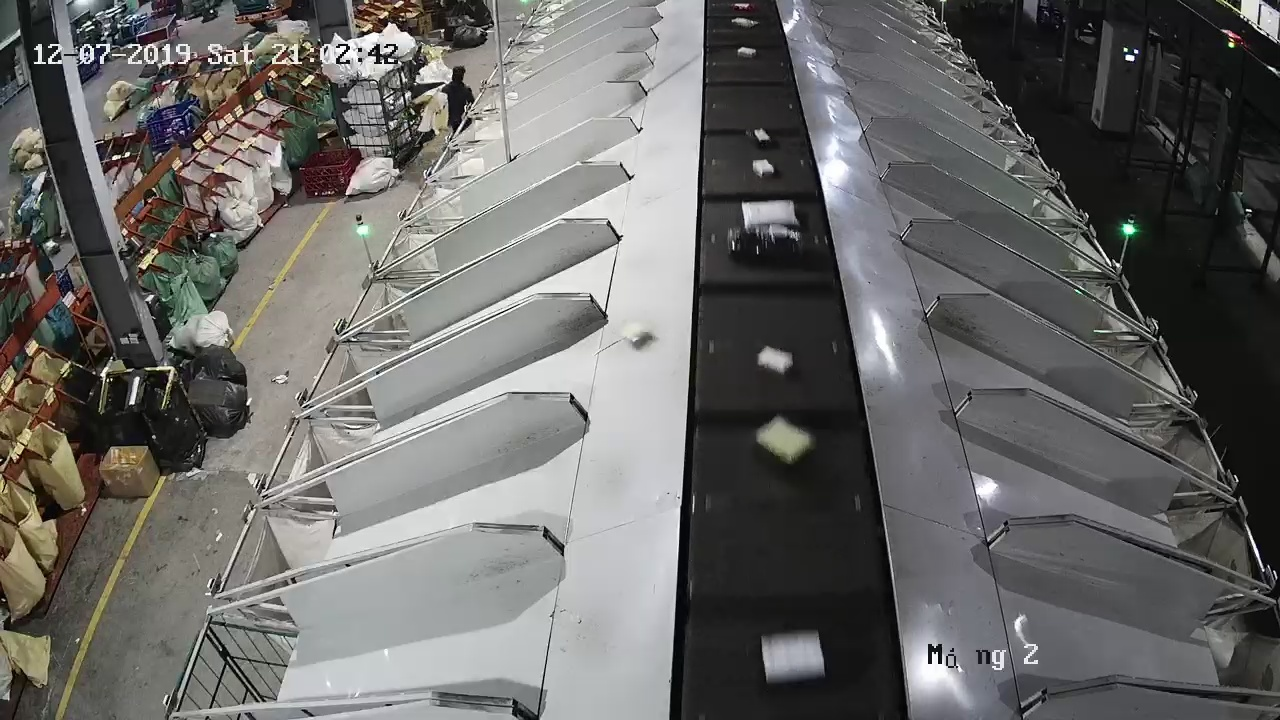parcel: (617, 321, 654, 348)
